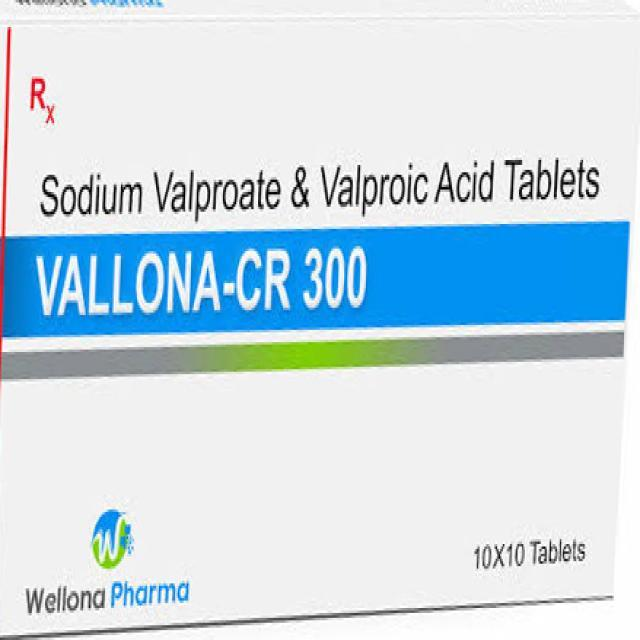drug-name: (34, 246, 371, 318)
